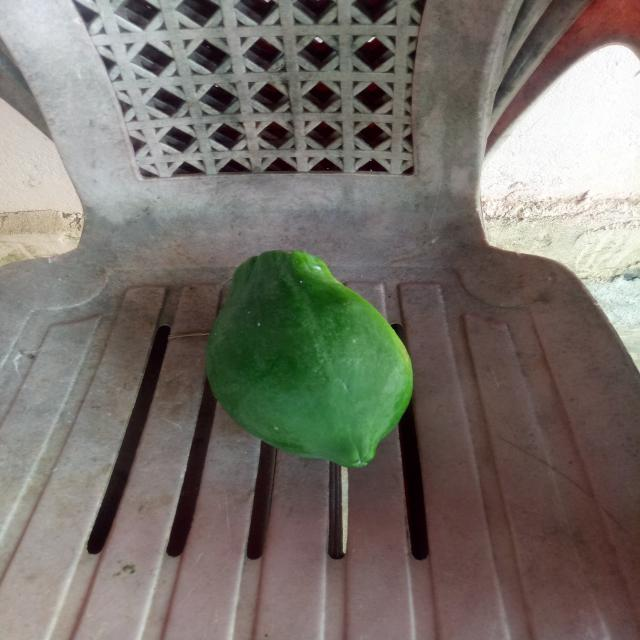Pepaya unrippen: (182, 236, 430, 471)
